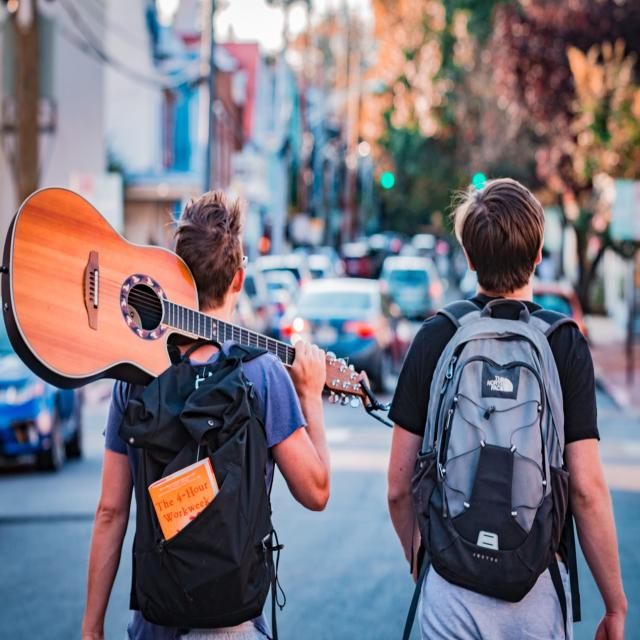backpack: (412, 301, 576, 599), (114, 334, 277, 622)
